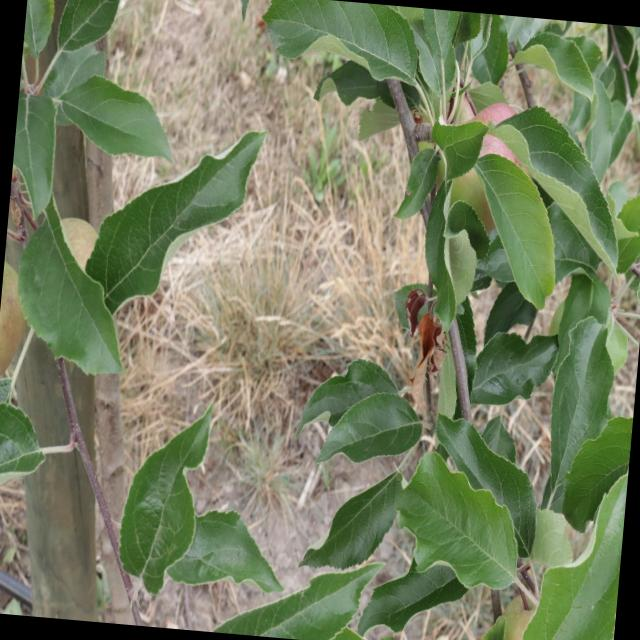-FireBlight-: (395, 288, 450, 406)
